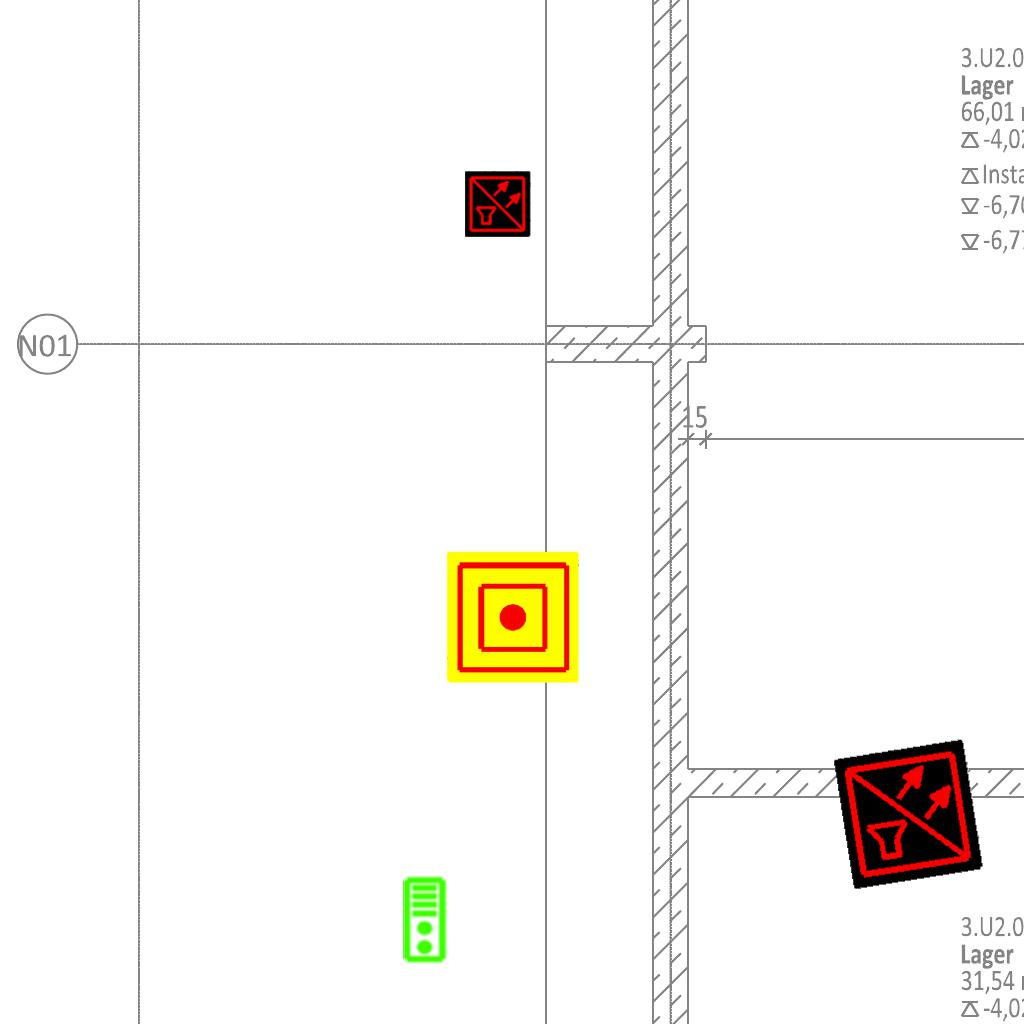Gegensprechanlage_mit_Video: (402, 876, 449, 964)
NAM-Nichtautomatischer_Melder: (447, 551, 579, 683)
OKW_Multisensormelder_(Kombination_optischer_Rauch-Kahlenmonoxid_Waerme-Melder): (833, 738, 985, 890), (465, 171, 531, 237)
